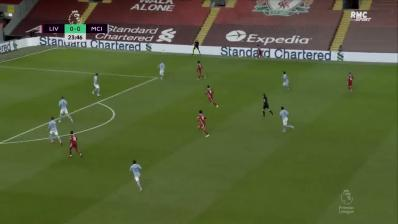football: (237, 54, 244, 59)
player: (56, 95, 76, 125), (45, 116, 63, 146), (67, 128, 84, 159), (130, 159, 145, 193), (203, 84, 220, 111), (195, 109, 210, 139), (279, 106, 294, 133), (90, 73, 103, 98), (280, 70, 293, 92), (344, 70, 357, 92), (156, 60, 168, 81), (195, 60, 207, 81), (256, 44, 268, 61)
referee: (260, 92, 275, 119)
